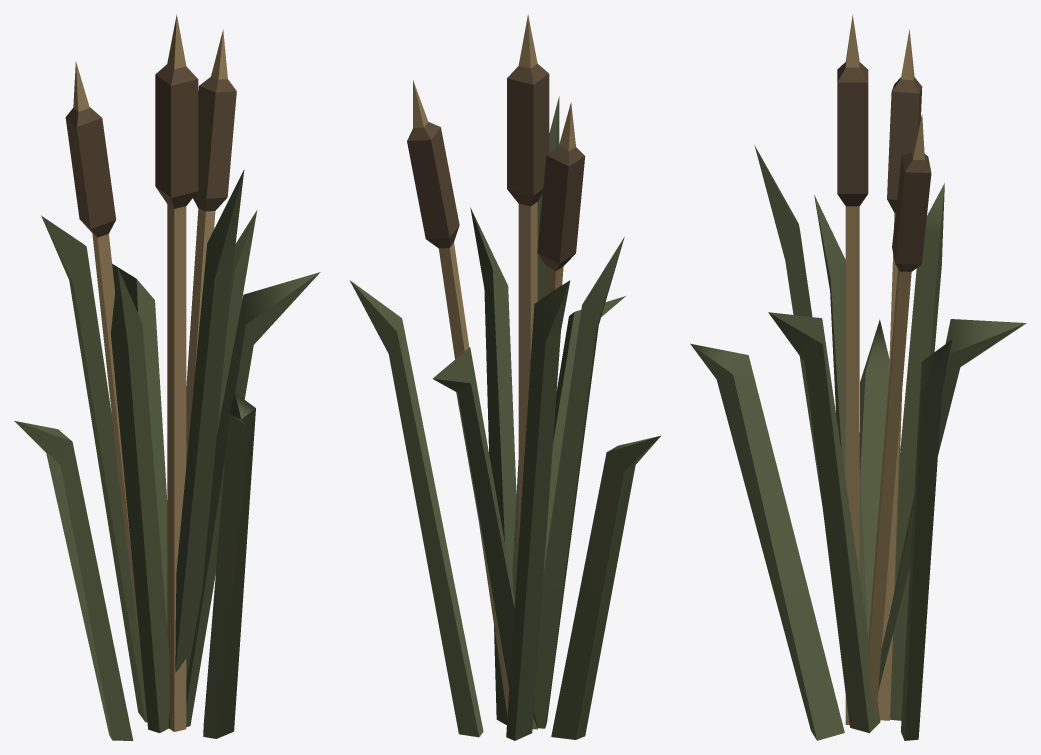
The model's file is env_reeds2.gltf.
3 renders of one model, left to right at view 1: azimuth 30°, elevation 25°; view 2: azimuth 150°, elevation 25°; view 3: azimuth 270°, elevation 25°, orthographic.
Visible parts, largest first — view 1: env_reeds2; view 2: env_reeds2; view 3: env_reeds2.
Part boxes in pixels (left/top/right/bottom): env_reeds2: left=14, top=14, right=320, bottom=740; env_reeds2: left=349, top=14, right=660, bottom=740; env_reeds2: left=690, top=15, right=1026, bottom=740.
Size of the model in its own units: 0.8784 by 2.14 by 0.9242.
Materials: 1 (1 with a texture image).
